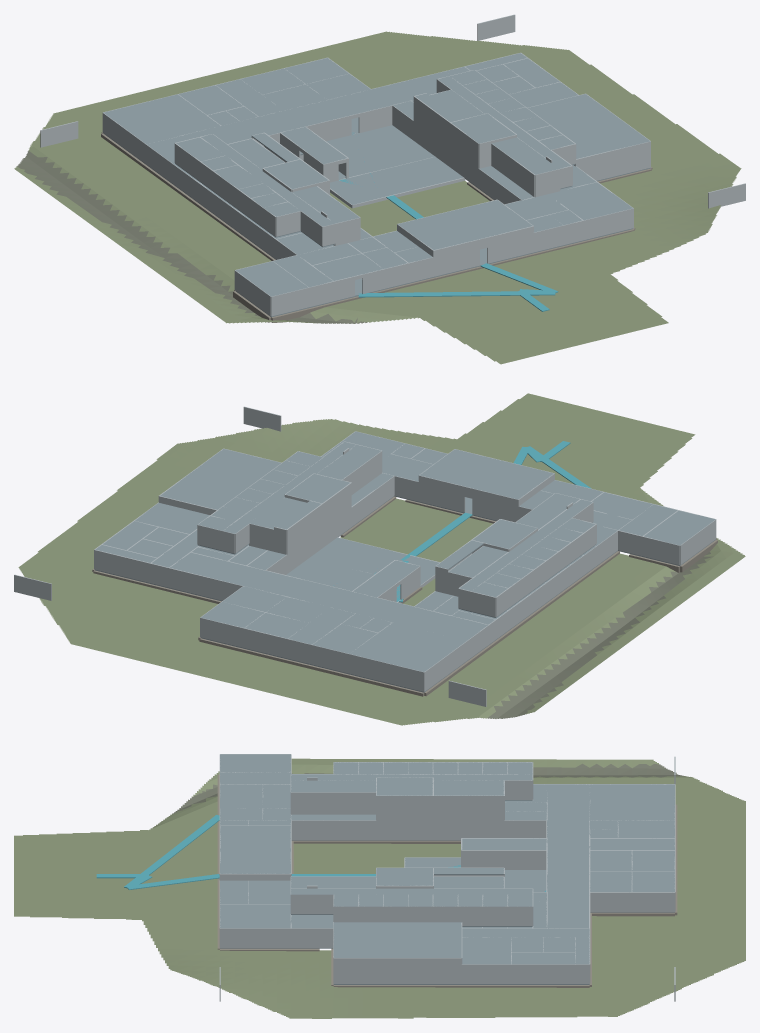
Rendered from supported-arrival.glb.
The picture shows the model from 3 angles, top to bottom: view 1: azimuth 30°, elevation 25°; view 2: azimuth 150°, elevation 25°; view 3: azimuth 270°, elevation 25°; orthographic projection.
Visible parts, largest first — view 1: Saved editor macroterrain PRISON, Ceiling cap cross, Ceiling cap chapel, Ceiling cap sally, Ceiling cap dining, Ceiling cap laundry, Ceiling cap plant, Wall chapel S, Ceiling cap guard-link, Wall b-rear-bypass W, Ceiling cap a-upper-gallery, Ceiling cap b-upper-gallery (+37 smaller); view 2: Saved editor macroterrain PRISON, Ceiling cap cross, Ceiling cap chapel, Ceiling cap sally, Ceiling cap dining, Ceiling cap laundry, Wall b-rear-bypass W, Wall dining N, Ceiling cap plant, Ceiling cap a-upper-gallery, Ceiling cap b-upper-gallery, Wall b-dayhall W (+36 smaller); view 3: Saved editor macroterrain PRISON, Ceiling cap cross, Ceiling cap chapel, Ceiling cap sally, Wall chapel E, Ceiling cap dining, Wall a-rear-bypass E, Wall a-dayhall E, Ceiling cap guard-link, Wall a-front-aisle E, Wall a-upper-stair E, Ceiling cap b-upper-gallery (+45 smaller).
Part boxes in pixels (bbox=[...]): Saved editor macroterrain PRISON: bbox=[14, 31, 741, 364]; Ceiling cap cross: bbox=[146, 71, 451, 159]; Ceiling cap chapel: bbox=[527, 94, 649, 158]; Ceiling cap sally: bbox=[398, 200, 532, 249]; Ceiling cap dining: bbox=[103, 94, 219, 144]; Ceiling cap laundry: bbox=[330, 157, 463, 204]; Ceiling cap plant: bbox=[326, 125, 434, 177]; Wall chapel S: bbox=[575, 141, 650, 180]; Ceiling cap guard-link: bbox=[548, 182, 632, 220]; Wall b-rear-bypass W: bbox=[413, 96, 450, 166]; Ceiling cap a-upper-gallery: bbox=[201, 134, 334, 226]; Ceiling cap b-upper-gallery: bbox=[437, 76, 571, 168]; Saved editor macroterrain PRISON: bbox=[18, 393, 745, 725]; Ceiling cap cross: bbox=[170, 552, 487, 640]; Ceiling cap chapel: bbox=[160, 449, 280, 509]; Ceiling cap sally: bbox=[419, 449, 553, 499]; Ceiling cap dining: bbox=[350, 622, 466, 671]; Ceiling cap laundry: bbox=[309, 537, 439, 584]; Wall b-rear-bypass W: bbox=[286, 503, 322, 573]; Wall dining N: bbox=[349, 654, 424, 691]; Ceiling cap plant: bbox=[286, 558, 374, 591]; Ceiling cap a-upper-gallery: bbox=[459, 499, 592, 591]; Ceiling cap b-upper-gallery: bbox=[223, 442, 356, 533]; Wall b-dayhall W: bbox=[322, 482, 351, 547]; Saved editor macroterrain PRISON: bbox=[14, 758, 745, 1018]; Ceiling cap cross: bbox=[547, 784, 589, 928]; Ceiling cap chapel: bbox=[333, 922, 461, 957]; Ceiling cap sally: bbox=[220, 826, 290, 873]; Wall chapel E: bbox=[333, 958, 461, 983]; Ceiling cap dining: bbox=[589, 784, 674, 820]; Wall a-rear-bypass E: bbox=[433, 795, 504, 839]; Wall a-dayhall E: bbox=[376, 795, 433, 839]; Ceiling cap guard-link: bbox=[220, 904, 290, 928]; Wall a-front-aisle E: bbox=[291, 820, 376, 839]; Wall a-upper-stair E: bbox=[291, 792, 375, 811]; Ceiling cap b-upper-gallery: bbox=[291, 888, 532, 894].
Bounding box in the file's own units: 87 × 9.96 × 103.
